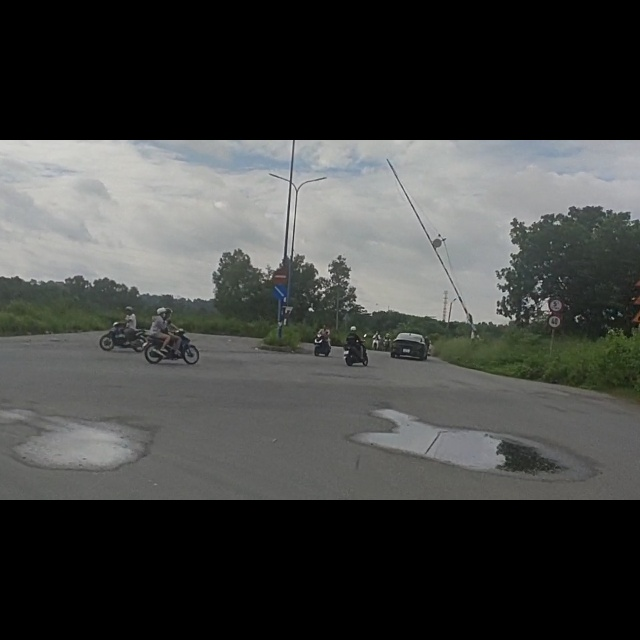bien_cam: (272, 256, 289, 286), (273, 228, 291, 256), (548, 306, 562, 334)
